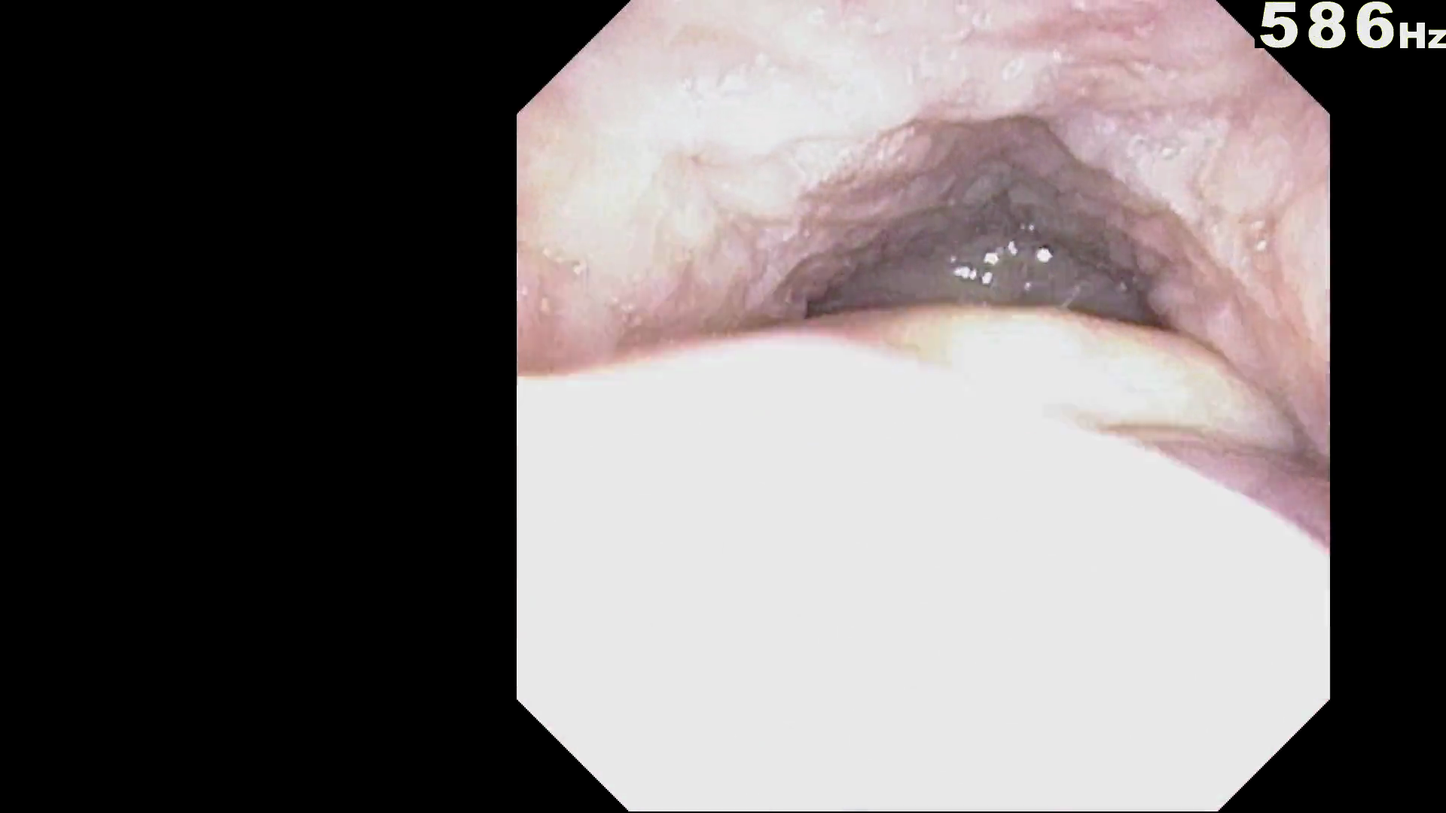epiglottis: (641, 259, 1293, 565)
